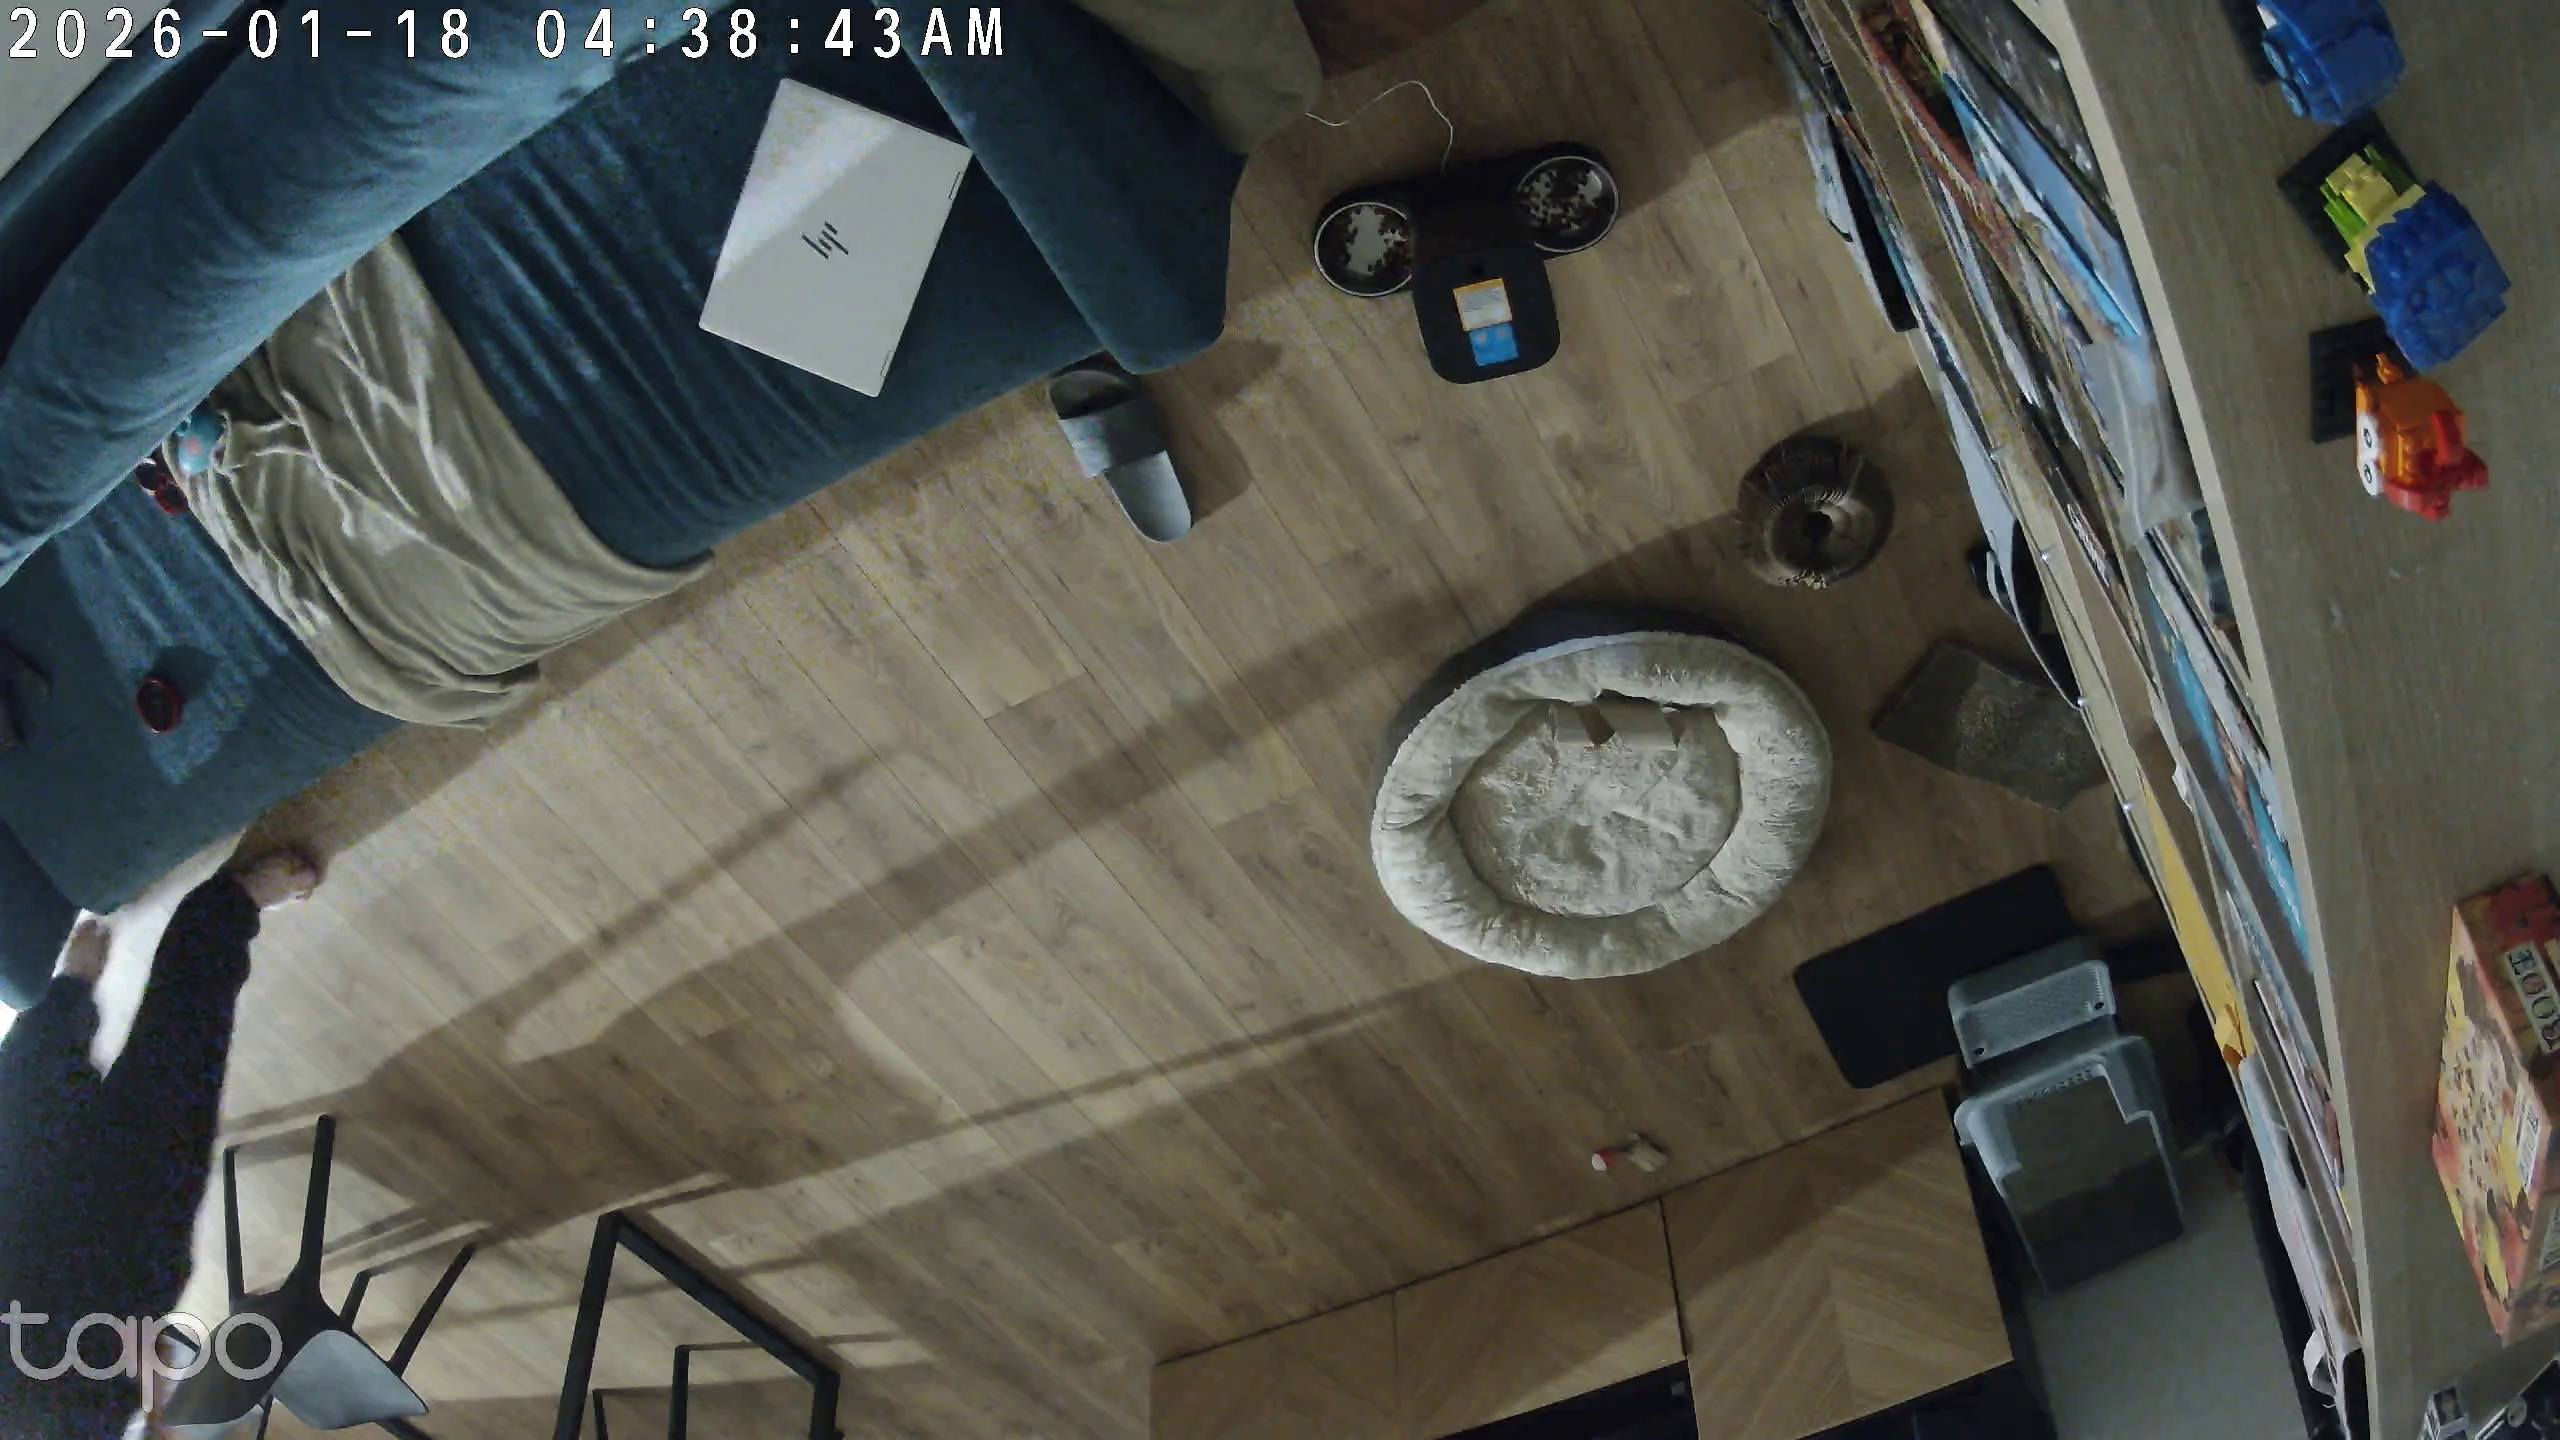Nala: (4, 837, 324, 1435)
